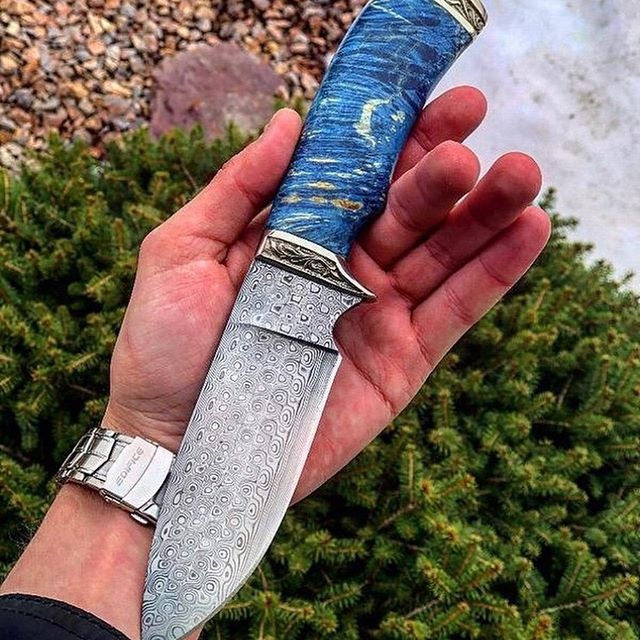knife: (140, 1, 489, 639)
